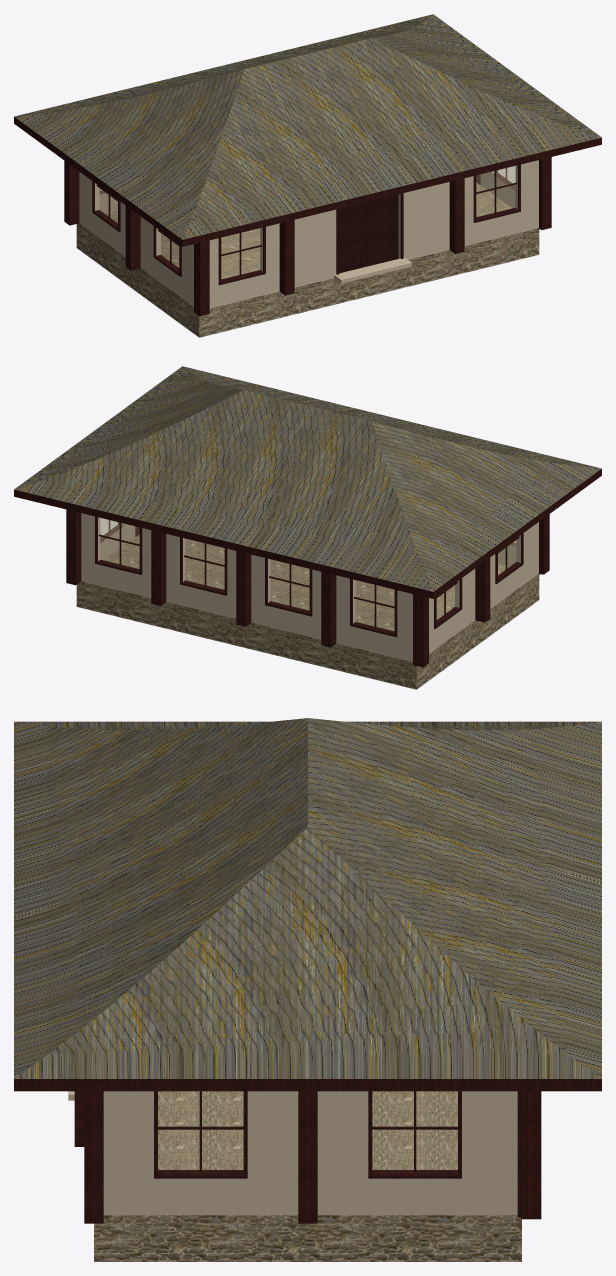
File: chinese_hall_01.glb
3 renders of one model, top to bottom at view 1: azimuth 30°, elevation 25°; view 2: azimuth 150°, elevation 25°; view 3: azimuth 270°, elevation 25°, orthographic. The views are drawn at different scales.
Parts seen in each view (by area): view 1: chinese_hall_01; view 2: chinese_hall_01; view 3: chinese_hall_01.
Part boxes in pixels (x1=…): chinese_hall_01: x1=14, y1=14, x2=601, y2=337; chinese_hall_01: x1=14, y1=366, x2=601, y2=689; chinese_hall_01: x1=14, y1=718, x2=601, y2=1261.
Bounding box in the file's own units: 14.8 × 6.67 × 10.3.
Materials: 6 (5 with a texture image).
